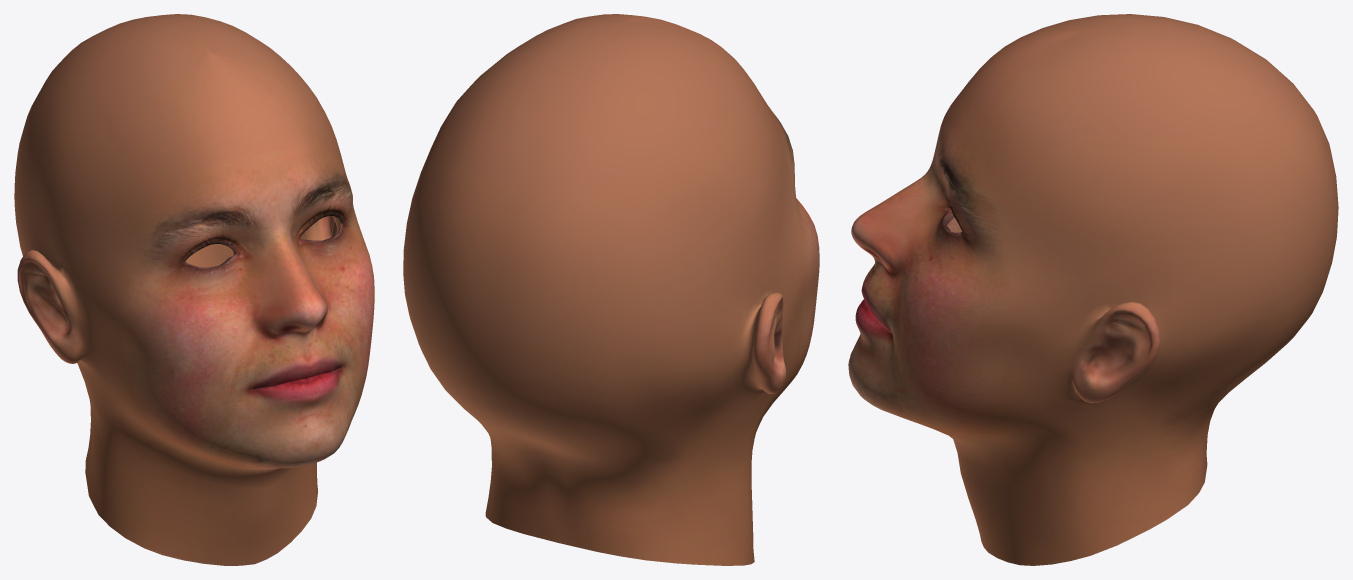
3 renders of one model, left to right at view 1: azimuth 30°, elevation 25°; view 2: azimuth 150°, elevation 25°; view 3: azimuth 270°, elevation 25°, orthographic. The views are drawn at different scales.
Visible parts, largest first — view 1: FaceGen; view 2: FaceGen; view 3: FaceGen.
Boxes of the visible parts, bbox=[...] form: FaceGen: bbox=[14, 14, 374, 565]; FaceGen: bbox=[403, 14, 819, 565]; FaceGen: bbox=[848, 14, 1338, 565].
Size of the model in its own units: 191 by 281 by 243.
1 material, 1 textured.
